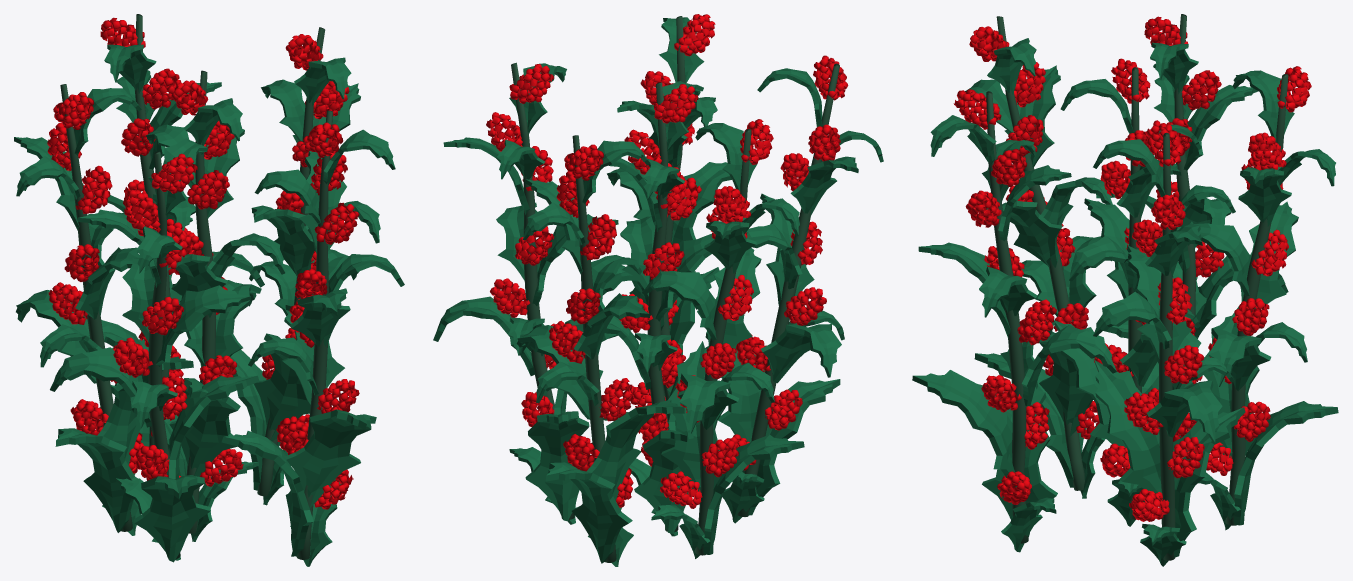
File: Chenopodium_Foliosum_Try1.fbx
The picture shows the model from 3 angles, left to right: view 1: azimuth 30°, elevation 25°; view 2: azimuth 150°, elevation 25°; view 3: azimuth 270°, elevation 25°; orthographic projection. The views are drawn at different scales.
Visible parts, largest first — view 1: Leave.007, Leave.006, Leave.003, Leave.012, Leave.005, Leave.004; view 2: Leave.004, Leave.003, Leave.007, Leave.005, Leave.012, Leave.006; view 3: Leave.005, Leave.006, Leave.004, Leave.007, Leave.012, Leave.003.
Boxes of the visible parts, box(x1,y1,x2,y2) form: Leave.007: box(50, 138, 259, 562); Leave.006: box(221, 110, 404, 566); Leave.003: box(14, 84, 193, 535); Leave.012: box(110, 70, 285, 541); Leave.005: box(221, 27, 380, 505); Leave.004: box(94, 14, 264, 460); Leave.004: box(516, 135, 684, 566); Leave.003: box(642, 119, 804, 558); Leave.007: box(705, 55, 883, 523); Leave.005: box(433, 62, 632, 524); Leave.012: box(565, 81, 743, 536); Leave.006: box(602, 14, 731, 430); Leave.005: box(1093, 120, 1245, 566); Leave.006: box(912, 89, 1116, 552); Leave.004: box(1194, 66, 1338, 530); Leave.007: box(965, 16, 1112, 498); Leave.012: box(1054, 58, 1201, 526); Leave.003: box(1096, 14, 1288, 441).
Bounding box in the file's own units: 80.79 × 101 × 83.68.
